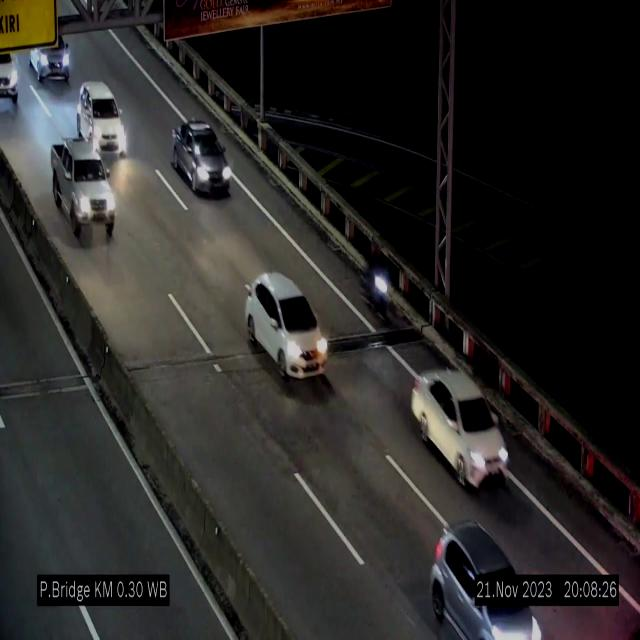Car: (424, 517, 554, 640), (411, 369, 509, 487), (246, 273, 327, 379), (51, 138, 115, 240), (172, 120, 231, 194), (77, 82, 127, 158), (27, 28, 70, 88), (0, 53, 26, 104)
Motorcycle: (363, 236, 396, 326)
